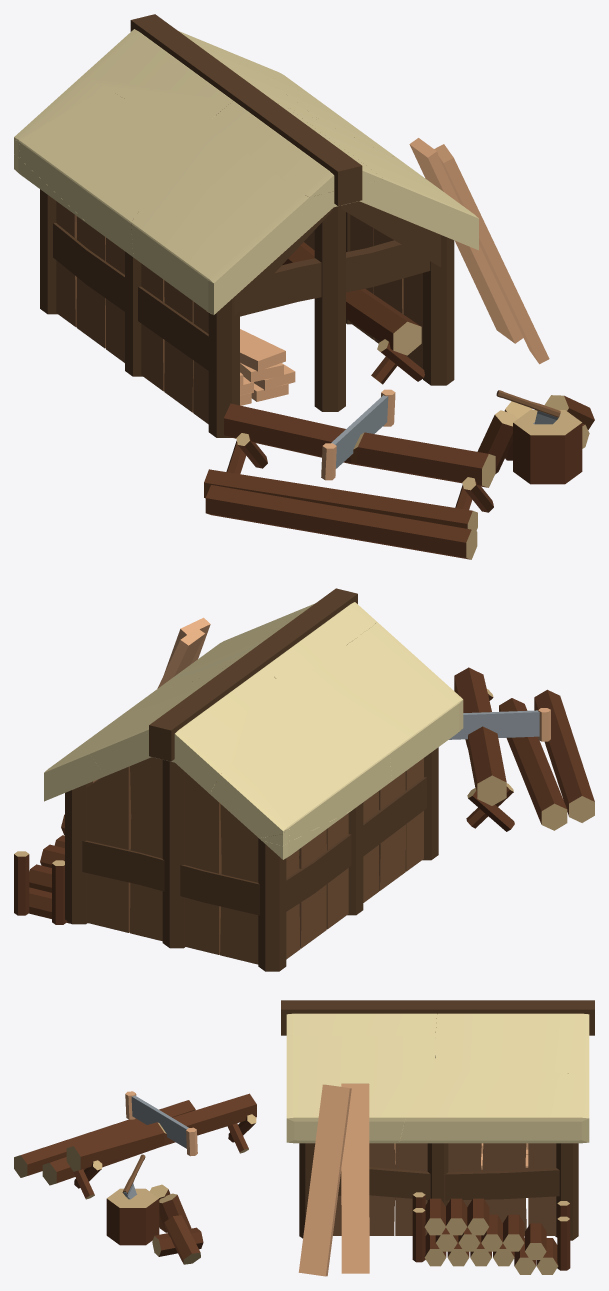
Rendered from ExplodedWoodShop.fbx.
The picture shows the model from 3 angles, top to bottom: view 1: azimuth 30°, elevation 25°; view 2: azimuth 150°, elevation 25°; view 3: azimuth 270°, elevation 25°; orthographic projection. The views are drawn at different scales.
Visible parts, largest first — view 1: WoodShop.002_cell.003, WoodShop.002_cell.004, WoodShop.002_cell.007, WoodShop.045, WoodShop.047, WoodShop.001, WoodShop.003, WoodShop.028, WoodShop.027, WoodShop.002_cell.001, WoodShop.046, WoodShop.050 (+25 smaller); view 2: WoodShop.002_cell.003, WoodShop.002_cell.004, WoodShop.002_cell.007, WoodShop.001, WoodShop.025, WoodShop.030, WoodShop.024, WoodShop.023, WoodShop.027, WoodShop.026, WoodShop.005, WoodShop.002_cell.001 (+24 smaller); view 3: WoodShop.002_cell.006, WoodShop.002_cell.003, WoodShop.002_cell.007, WoodShop.078, WoodShop.077, WoodShop.029, WoodShop.001, WoodShop.045, WoodShop.002_cell.001, WoodShop.050, WoodShop.047, WoodShop.020 (+26 smaller).
Part boxes in pixels (x1,y1,x2,y2): WoodShop.002_cell.003: (131, 107, 478, 314); WoodShop.002_cell.004: (19, 87, 189, 256); WoodShop.002_cell.007: (84, 29, 322, 136); WoodShop.045: (224, 403, 495, 487); WoodShop.047: (205, 485, 477, 559); WoodShop.001: (130, 14, 362, 205); WoodShop.003: (314, 205, 345, 411); WoodShop.028: (240, 240, 430, 316); WoodShop.027: (53, 223, 208, 370); WoodShop.002_cell.001: (207, 101, 382, 197); WoodShop.046: (204, 469, 477, 531); WoodShop.050: (513, 410, 582, 484); WoodShop.002_cell.003: (154, 606, 463, 780); WoodShop.002_cell.004: (238, 702, 391, 841); WoodShop.002_cell.007: (90, 667, 299, 793); WoodShop.001: (149, 588, 357, 761); WoodShop.025: (86, 766, 131, 932); WoodShop.030: (82, 840, 259, 915); WoodShop.024: (184, 771, 221, 954); WoodShop.023: (130, 757, 162, 941); WoodShop.027: (286, 777, 426, 911); WoodShop.026: (220, 804, 258, 964); WoodShop.005: (162, 760, 184, 948); WoodShop.002_cell.001: (221, 602, 376, 688); WoodShop.002_cell.006: (399, 1067, 589, 1143); WoodShop.002_cell.003: (286, 1035, 437, 1143); WoodShop.002_cell.007: (435, 1013, 589, 1074); WoodShop.078: (298, 1084, 351, 1276); WoodShop.077: (341, 1083, 369, 1273); WoodShop.029: (338, 1167, 559, 1200); WoodShop.001: (281, 1000, 594, 1035); WoodShop.045: (66, 1093, 256, 1171); WoodShop.002_cell.001: (286, 1013, 436, 1035); WoodShop.050: (106, 1188, 159, 1245); WoodShop.047: (14, 1100, 195, 1177); WoodShop.020: (482, 1143, 526, 1235).
Bounding box in the file's own units: 1384 × 828 × 2143.
